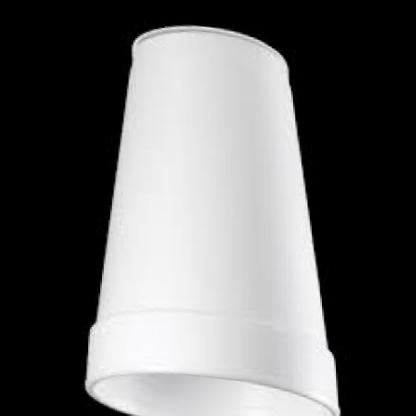trash: (86, 26, 339, 415)
